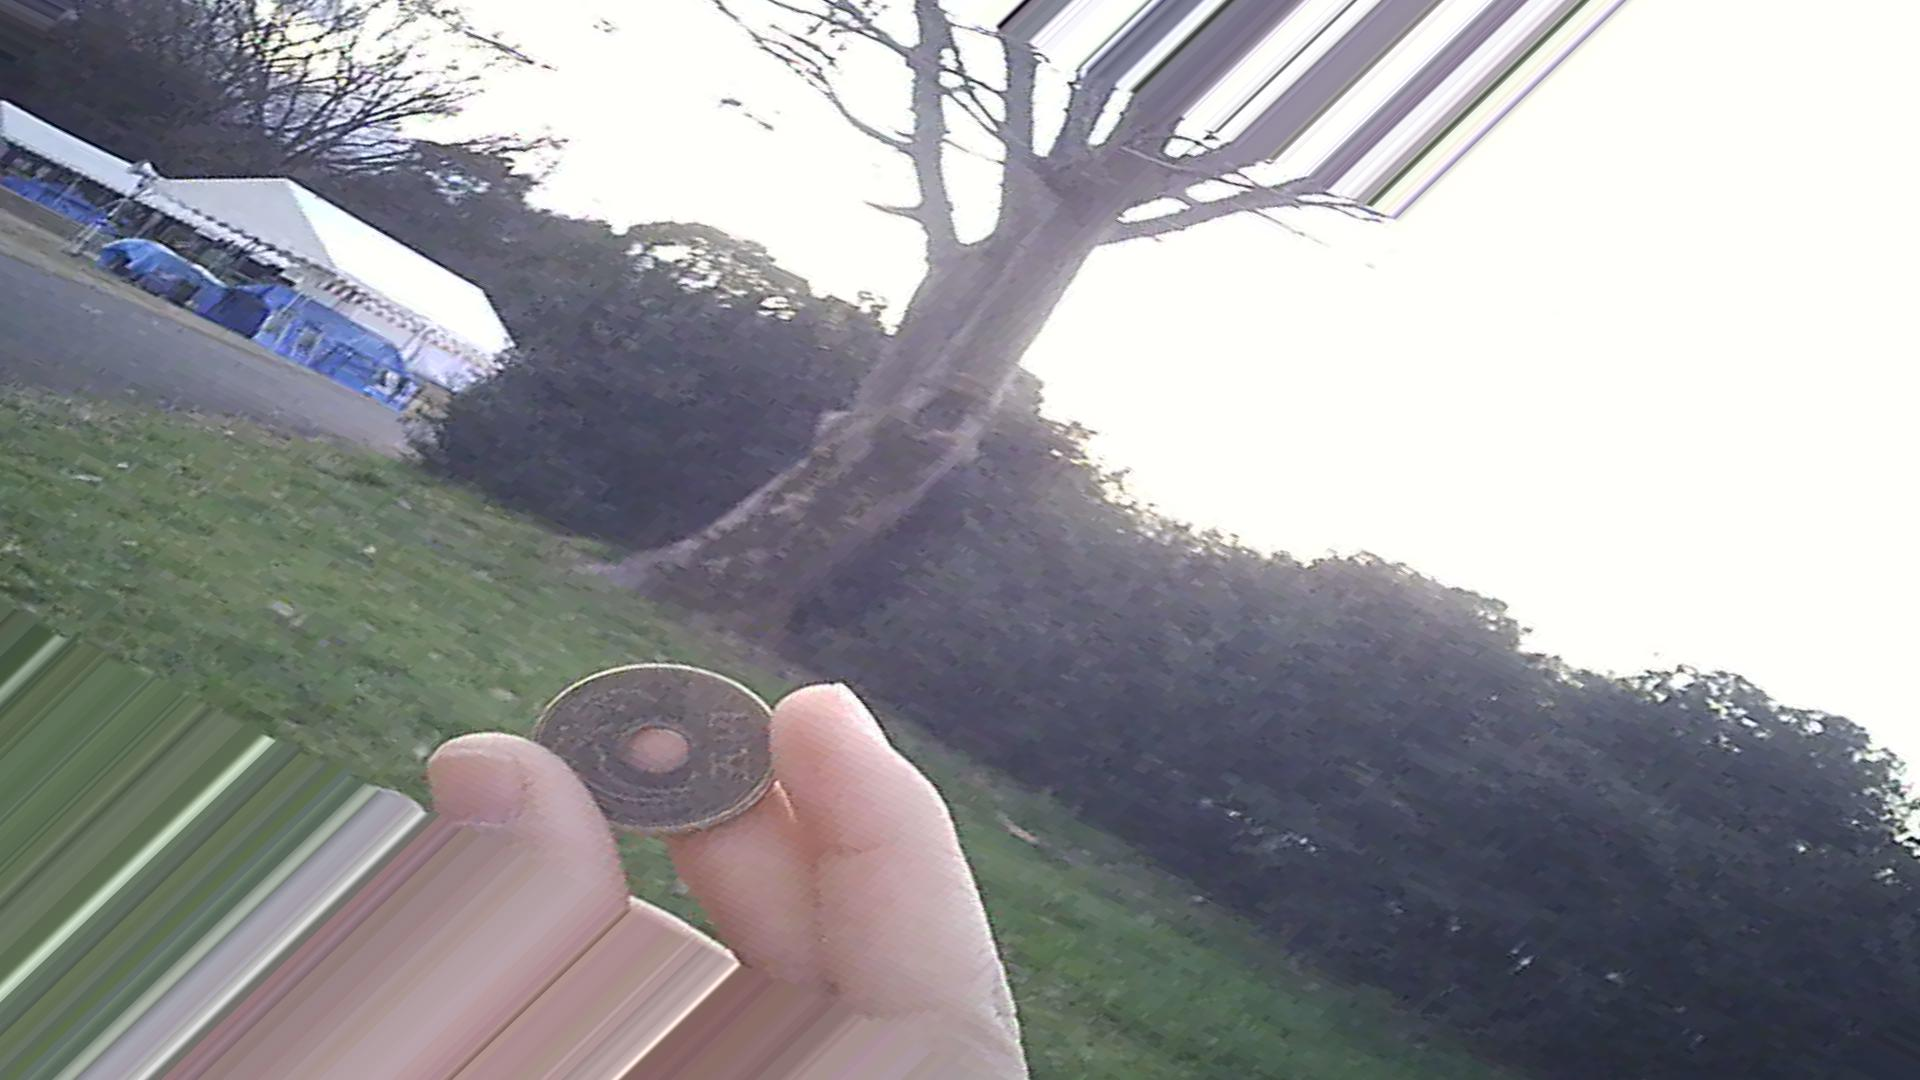5 Yen: (522, 650, 787, 831)
